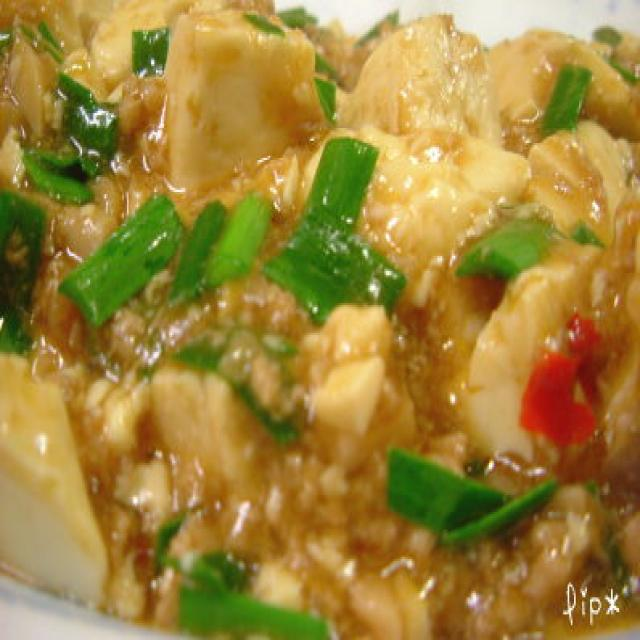豆腐料理: (0, 0, 638, 576)
